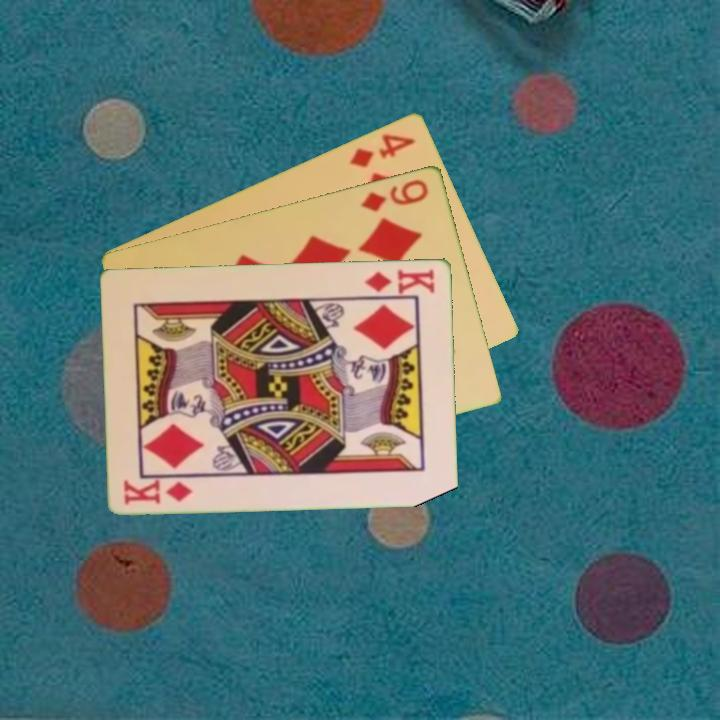4d: (346, 129, 419, 171)
9d: (357, 175, 432, 214)
Kd: (358, 265, 438, 298), (120, 476, 196, 507)
